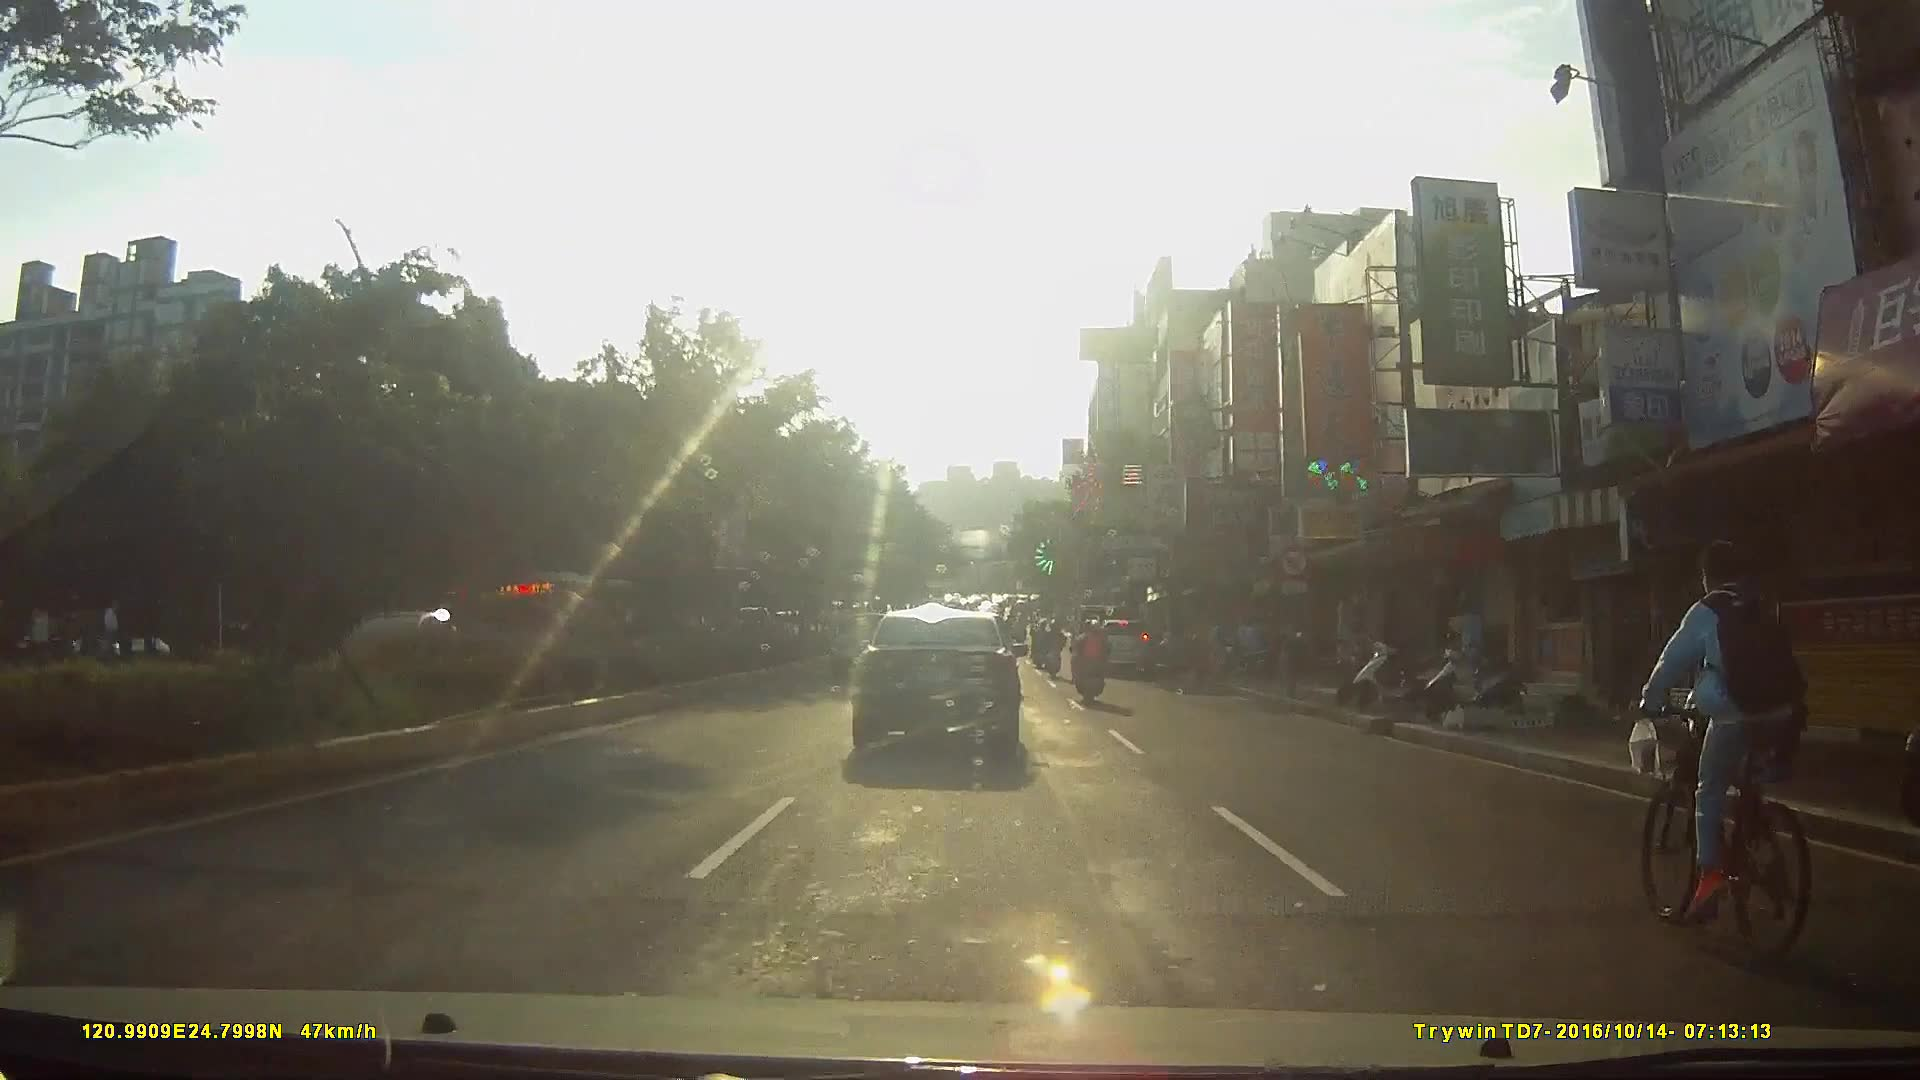pedestrian: (1447, 588, 1488, 678)
rider: (1636, 539, 1827, 965), (1067, 615, 1110, 710), (1038, 618, 1067, 680)
vehicle: (846, 595, 1039, 767), (1088, 613, 1157, 675)
